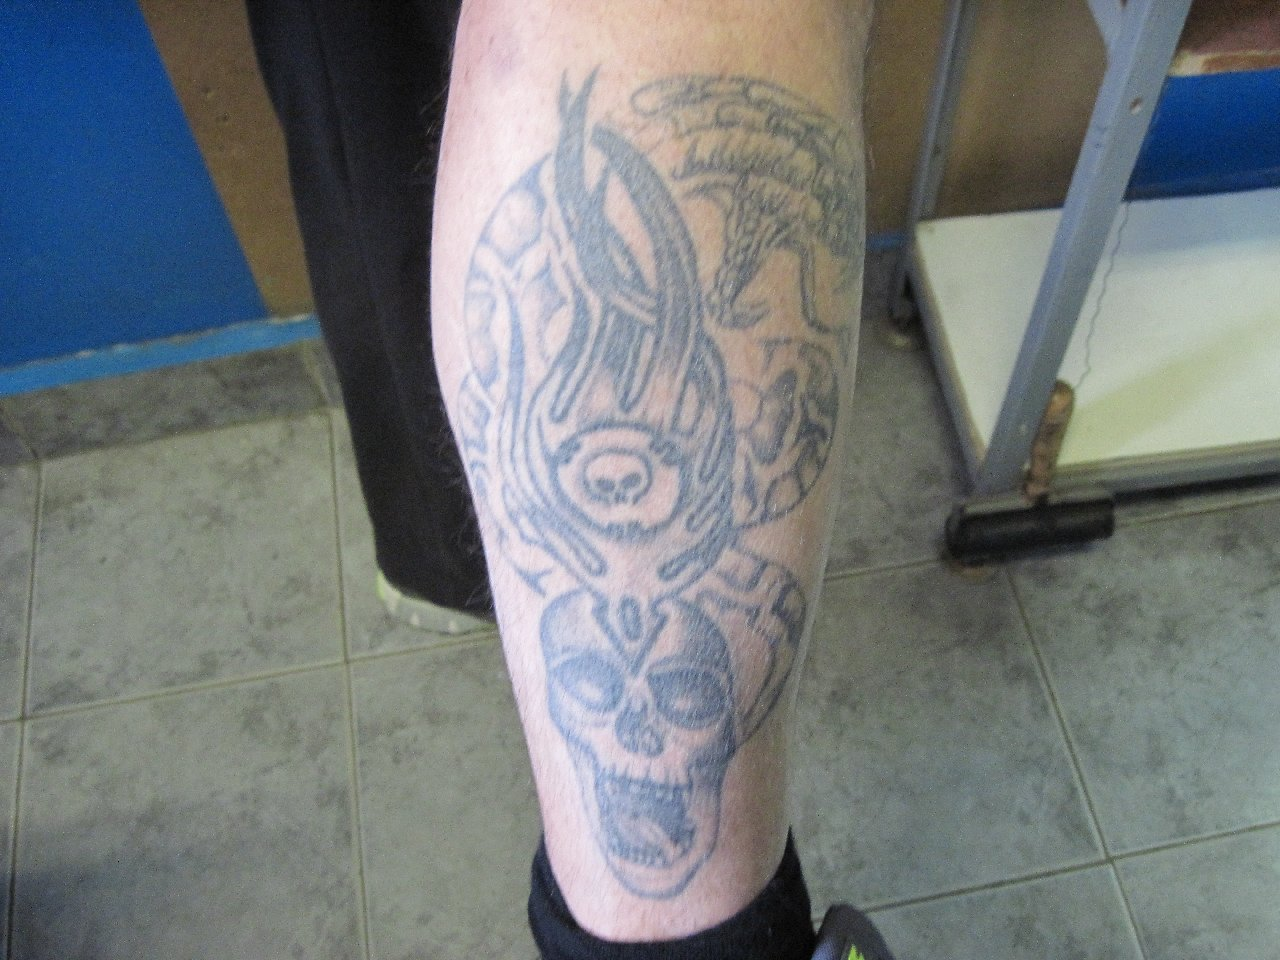tatu7_zmeya: (443, 94, 833, 960)
